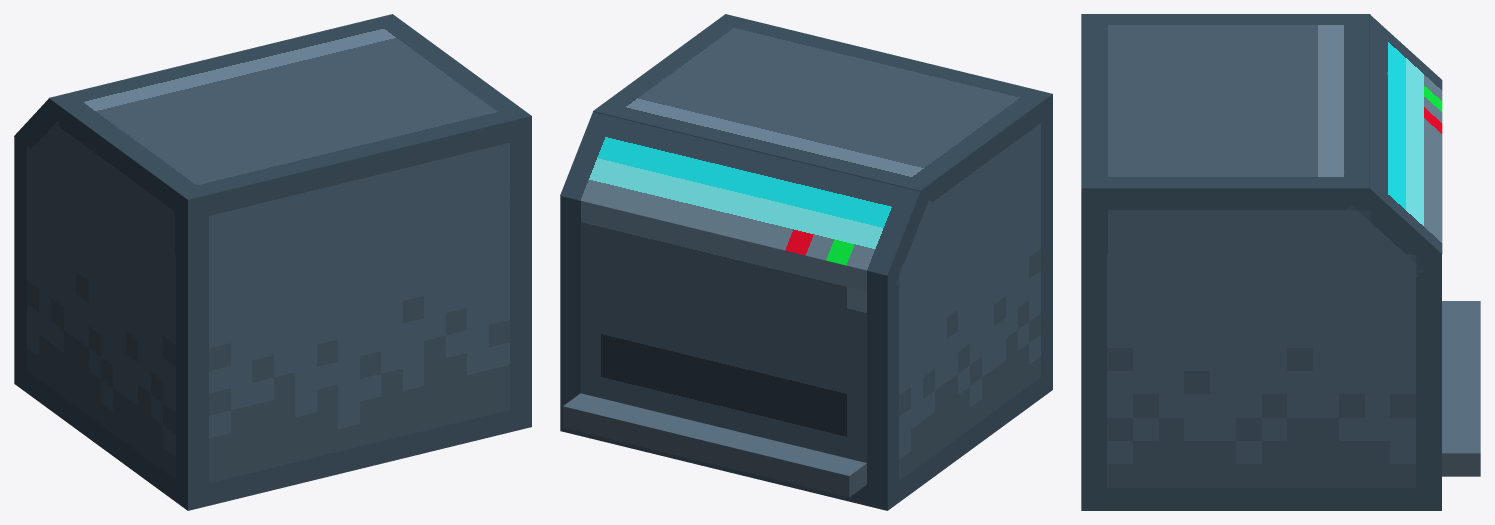
Rendered from Printer.fbx.
3 views of the same model, side by side, from view 1: azimuth 30°, elevation 25°; view 2: azimuth 150°, elevation 25°; view 3: azimuth 270°, elevation 25° (orthographic). The views are drawn at different scales.
Visible parts, largest first — view 1: cube, cube_2, cube_1; view 2: cube, cube_2, cube_1, cube_3; view 3: cube, cube_2, cube_1, cube_3.
Part boxes in pixels (box(x1,y1,x2,y2)): cube: box(14, 137, 531, 510); cube_2: box(48, 14, 531, 263); cube_1: box(14, 15, 389, 170); cube: box(560, 154, 1052, 510); cube_2: box(593, 14, 1052, 250); cube_1: box(560, 111, 937, 290); cube_3: box(563, 393, 866, 497); cube: box(1081, 254, 1441, 510); cube_2: box(1081, 14, 1370, 254); cube_1: box(1333, 14, 1442, 286); cube_3: box(1442, 301, 1480, 476).
Bounding box in the file's own units: 100 × 86.43 × 96.88.
1 material, 1 textured.
